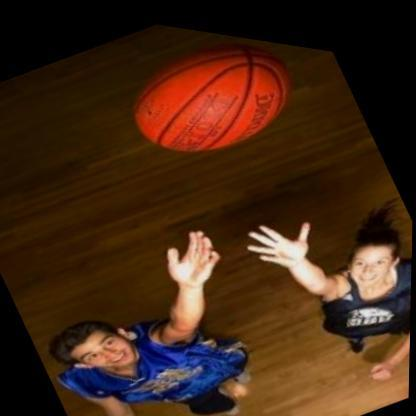basketball: (117, 15, 302, 185)
